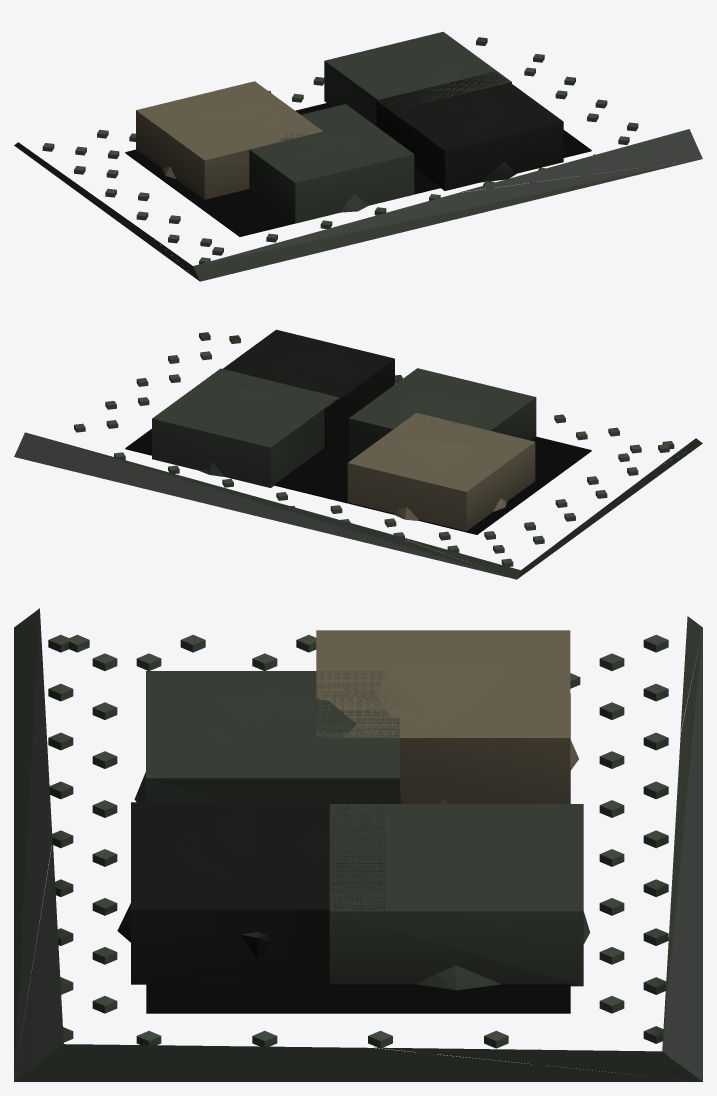
The model's file is neutral_rail_spur_destroyed.glb.
The picture shows the model from 3 angles, top to bottom: view 1: azimuth 30°, elevation 25°; view 2: azimuth 150°, elevation 25°; view 3: azimuth 270°, elevation 25°; orthographic projection. The views are drawn at different scales.
Parts seen in each view (by area): view 1: body (×2); view 2: body (×2); view 3: body (×2).
Part boxes in pixels (x1,y1,x2,y2): body (×2): [14, 31, 702, 281]; body (×2): [14, 329, 702, 579]; body (×2): [14, 608, 702, 1081].
Size of the model in its own units: 3.9 by 0.3 by 2.5.
